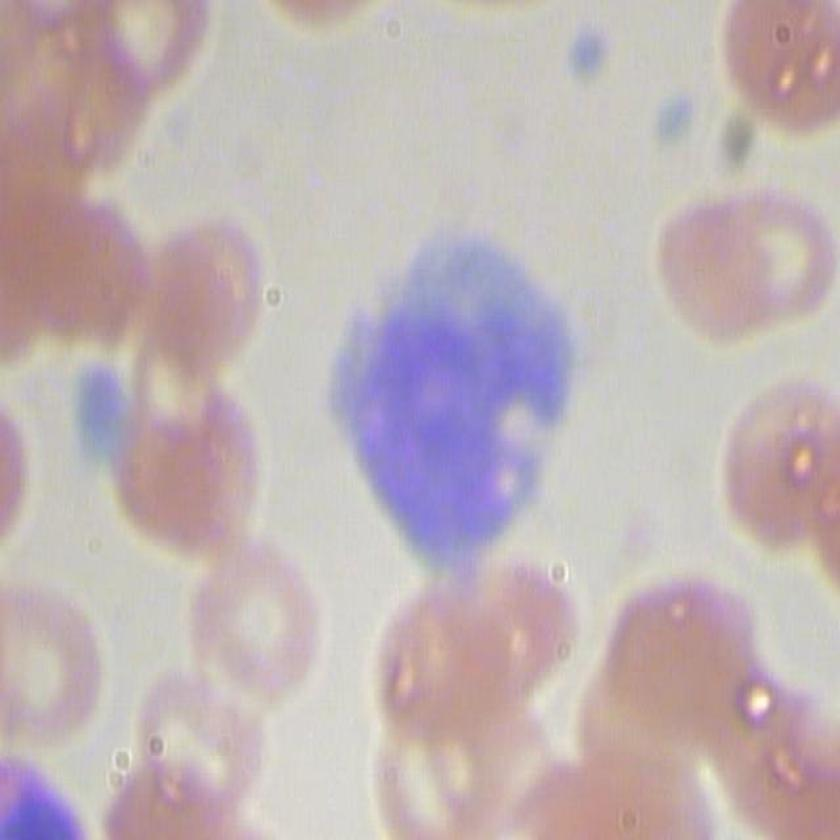monocyte: (326, 222, 580, 574)
